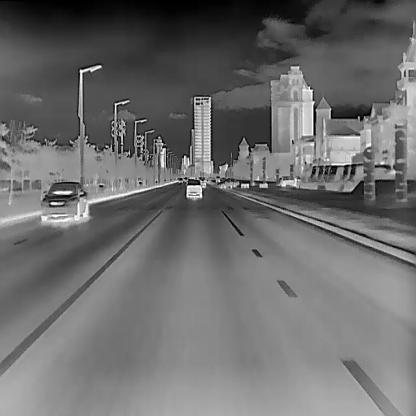car: (39, 181, 88, 223), (186, 178, 202, 198), (216, 177, 239, 190), (279, 175, 297, 187), (198, 175, 205, 188), (178, 176, 181, 182)
